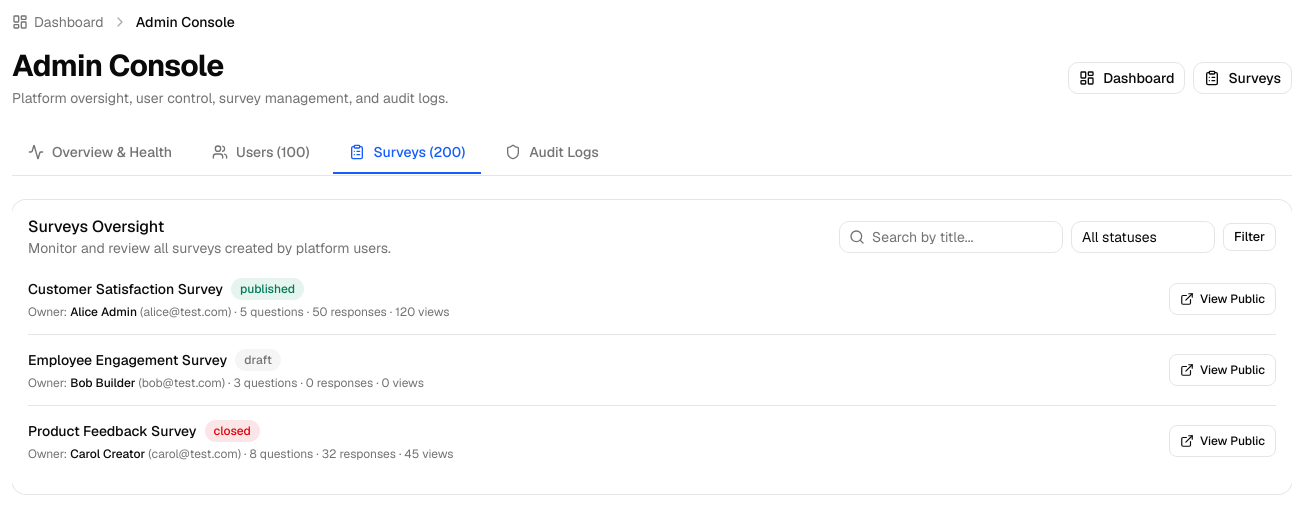
Test: AdminPage › filters surveys by status
The image size is (1304, 512).
Select "Published" in the dropdown at (1143, 237), box [1071,221,1215,253]
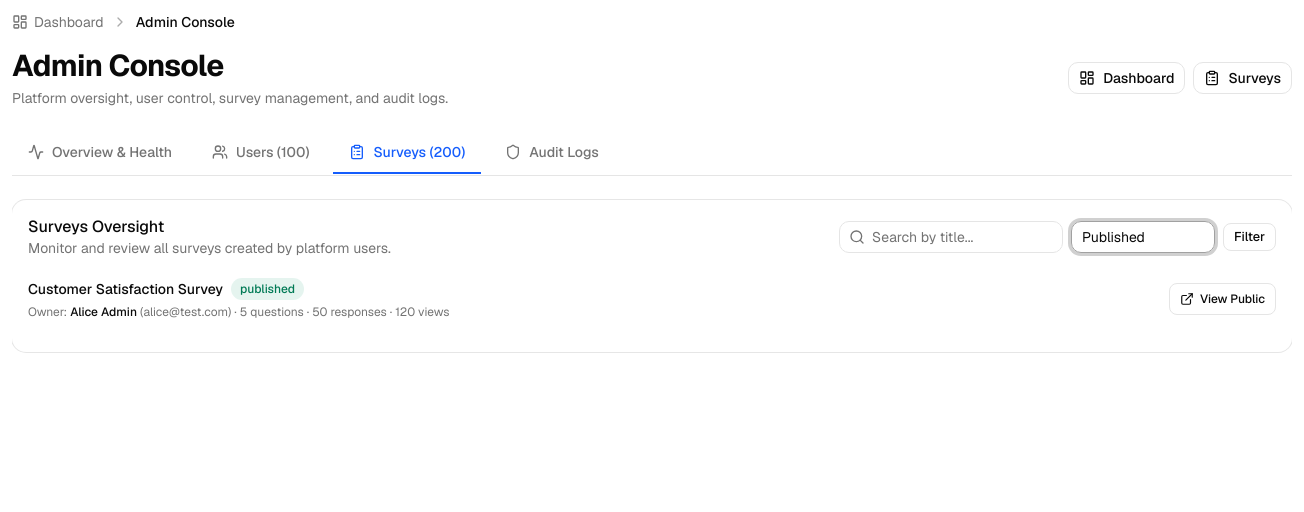
Expected: the text "Customer Satisfaction Survey" is shown, [28,279,223,299]
Result: the text "Employee Engagement Survey" is gone
Result: the text "Product Feedback Survey" is gone
